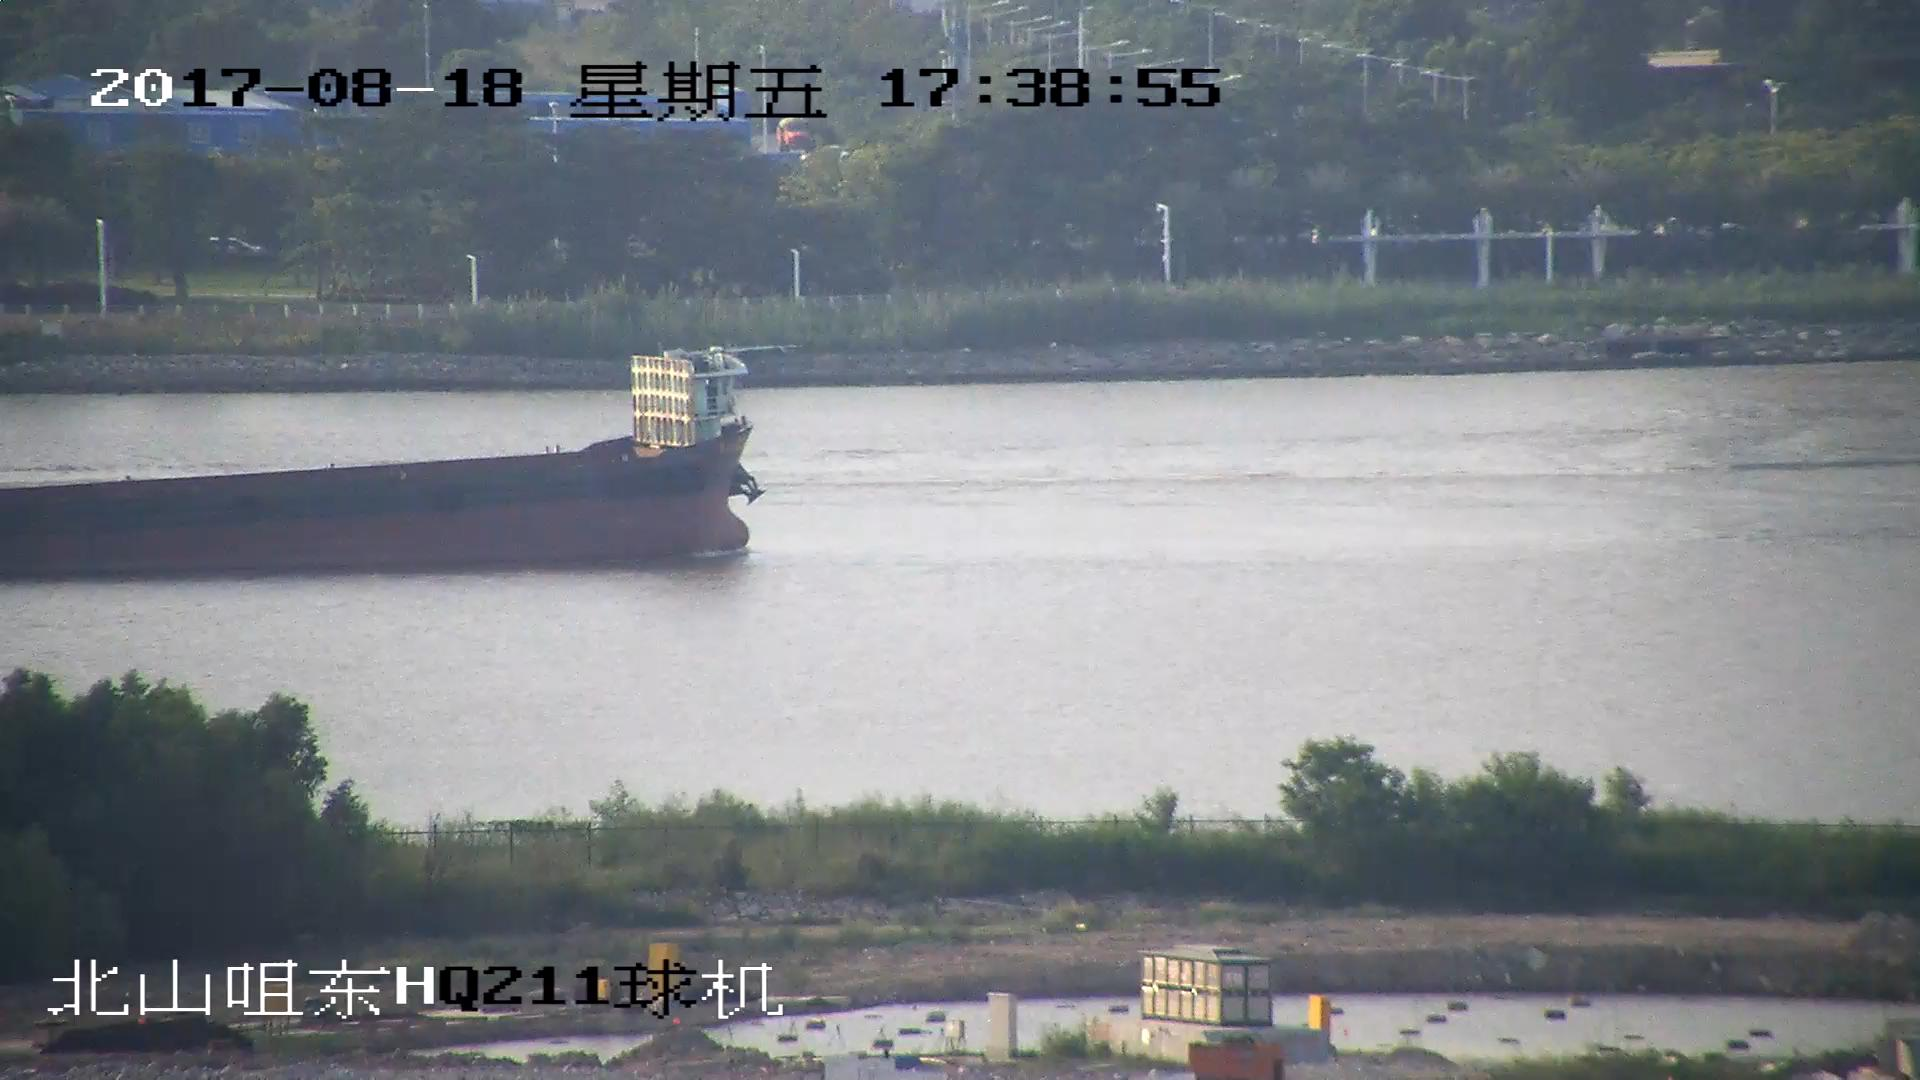general cargo ship: (1, 344, 769, 560)
